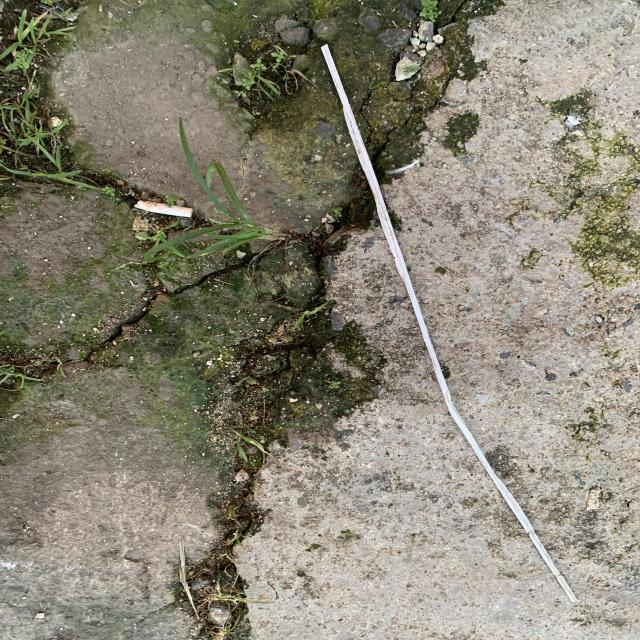litter: (315, 42, 583, 601)
